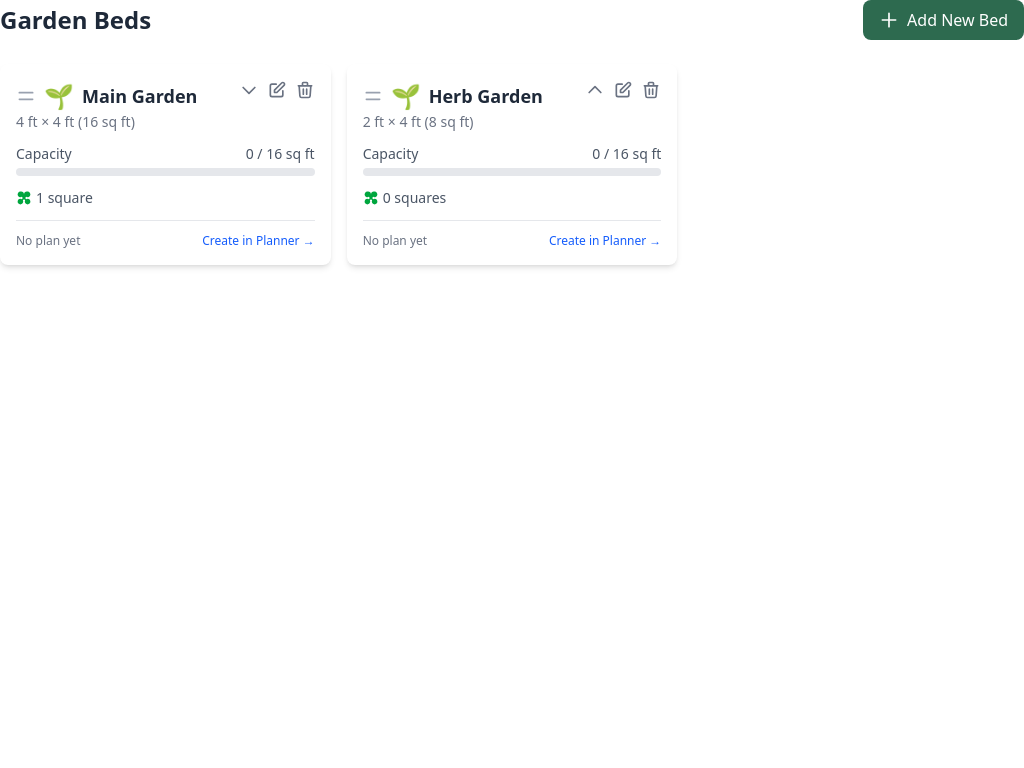
Test case: BedManager › deleting beds › shows delete dialog when bed has plants
Click the button named "Delete Main Garden": [305, 90] box [295,80,315,100]
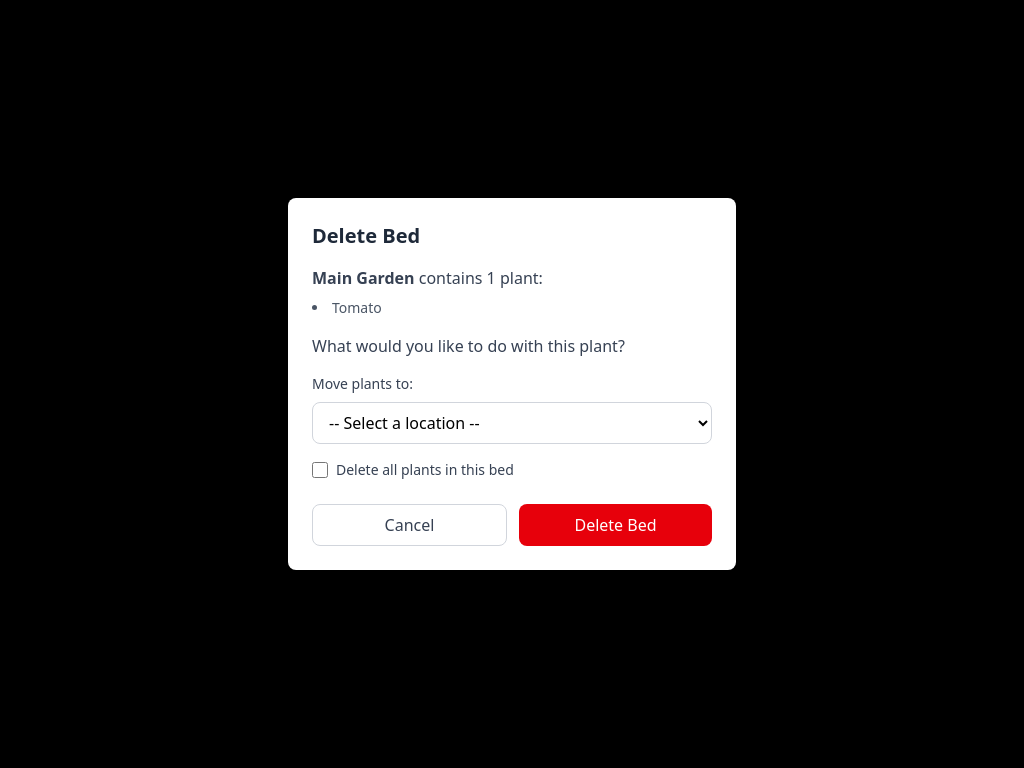
Result: the heading "Delete Bed" is shown at [312,222,420,249]
Result: the text "Main Garden contains 1 plant:" is shown at [312,267,543,289]
